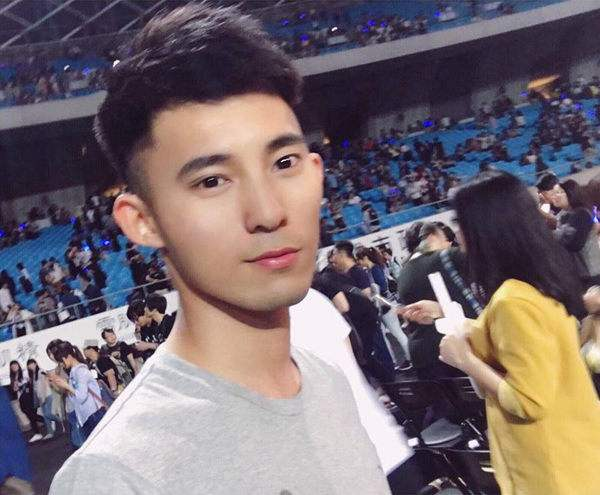person: (95, 18, 376, 495)
